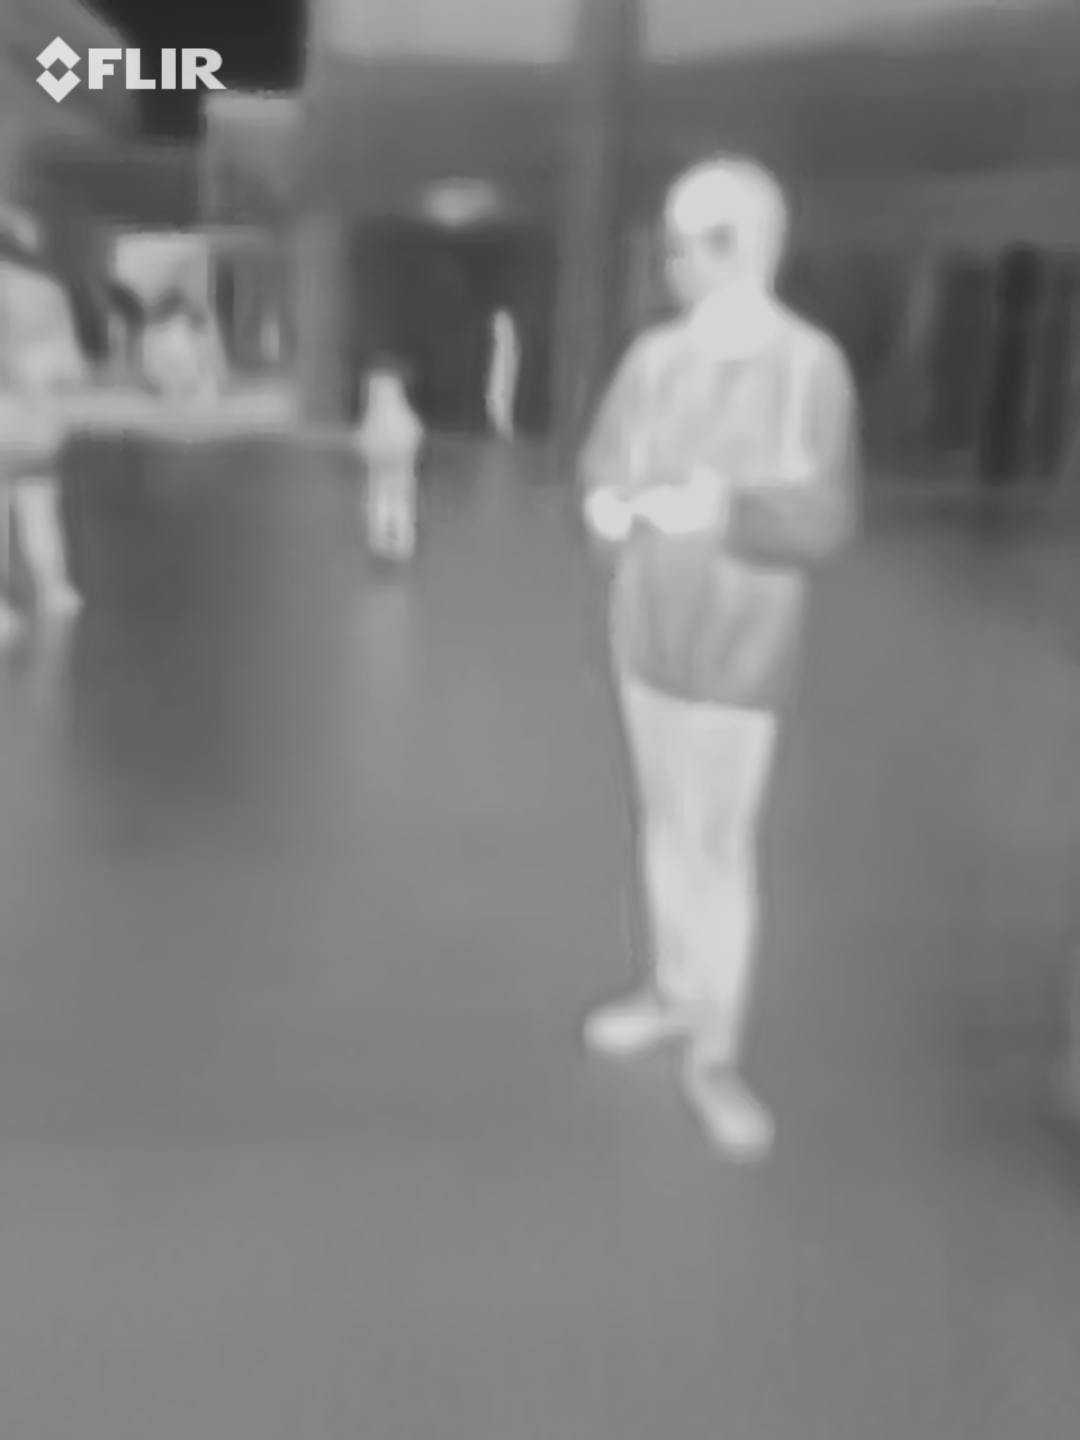head: (657, 147, 794, 316)
